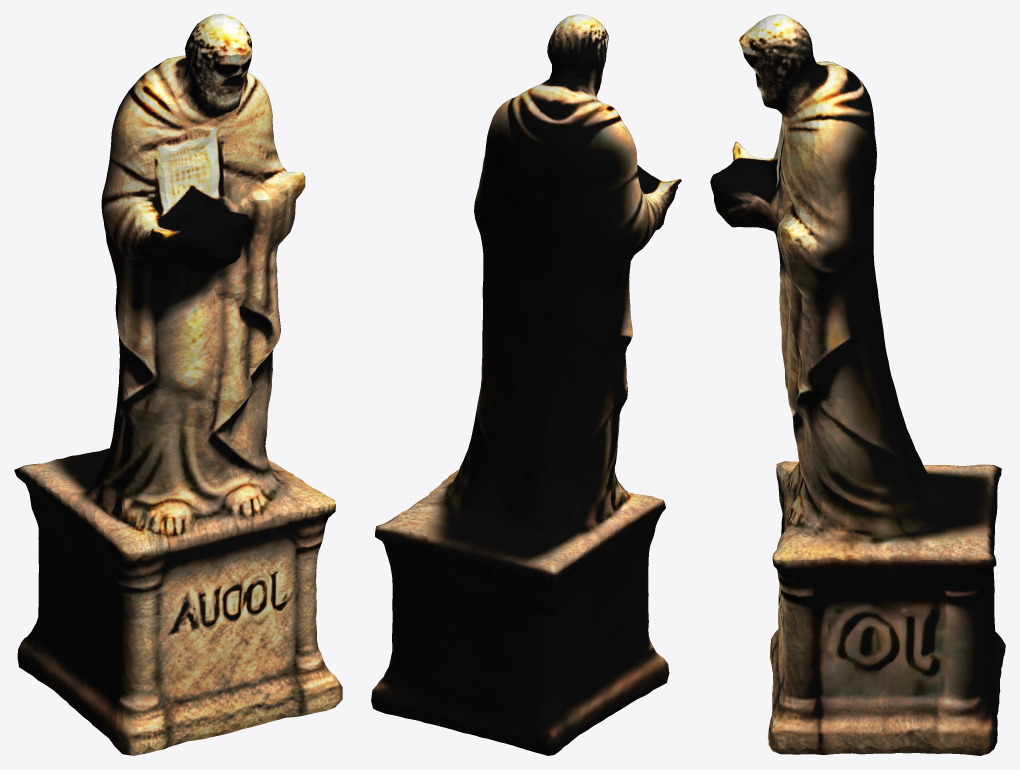
3 views of the same model, side by side, from view 1: azimuth 30°, elevation 25°; view 2: azimuth 150°, elevation 25°; view 3: azimuth 270°, elevation 25° (orthographic). The views are drawn at different scales.
Parts seen in each view (by area): view 1: mesh.obj; view 2: mesh.obj; view 3: mesh.obj.
Part boxes in pixels (bbox=[...]): mesh.obj: bbox=[14, 14, 342, 755]; mesh.obj: bbox=[371, 14, 681, 755]; mesh.obj: bbox=[710, 14, 1005, 755].
Bounding box in the file's own units: 0.268 × 0.8285 × 0.3227.
Materials: 1 (1 with a texture image).
